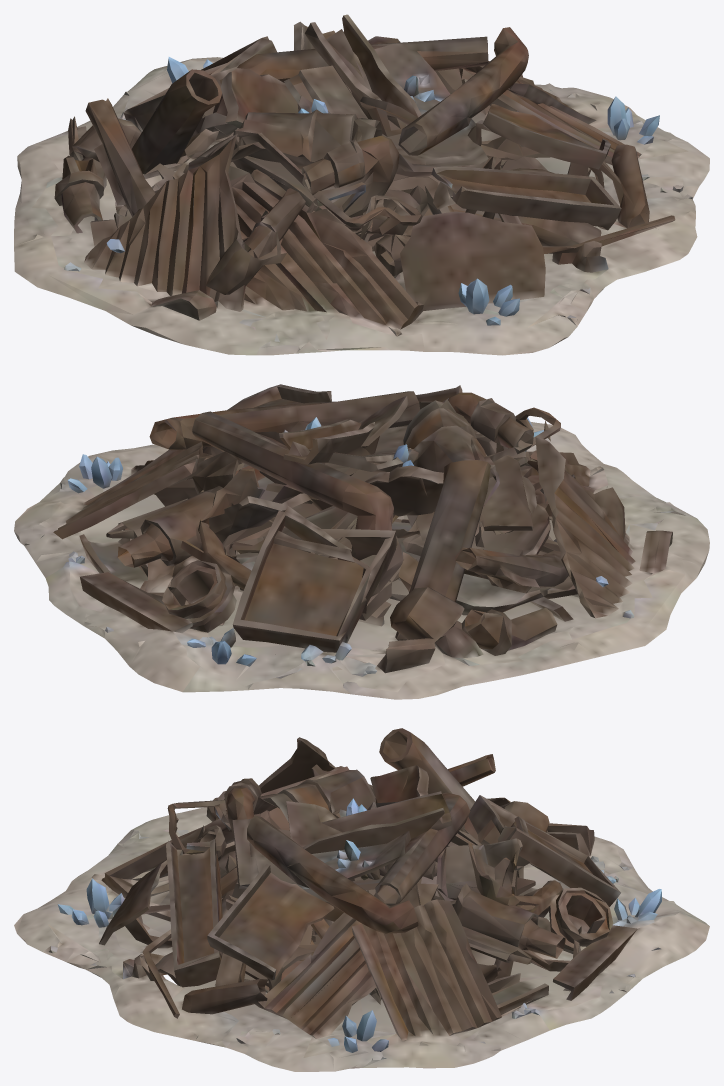
The model's file is decor.scrap_field.glb.
3 views of the same model, one above another, from view 1: azimuth 30°, elevation 25°; view 2: azimuth 150°, elevation 25°; view 3: azimuth 270°, elevation 25° (orthographic). The views are drawn at different scales.
Visible parts, largest first — view 1: body; view 2: body; view 3: body.
Boxes of the visible parts, x1,y1,x2,y2 form: body: (14,14,709,355); body: (14,384,709,699); body: (14,728,709,1071).
Bounding box in the file's own units: 1.72 × 0.4026 × 1.8.
1 material, 1 textured.
